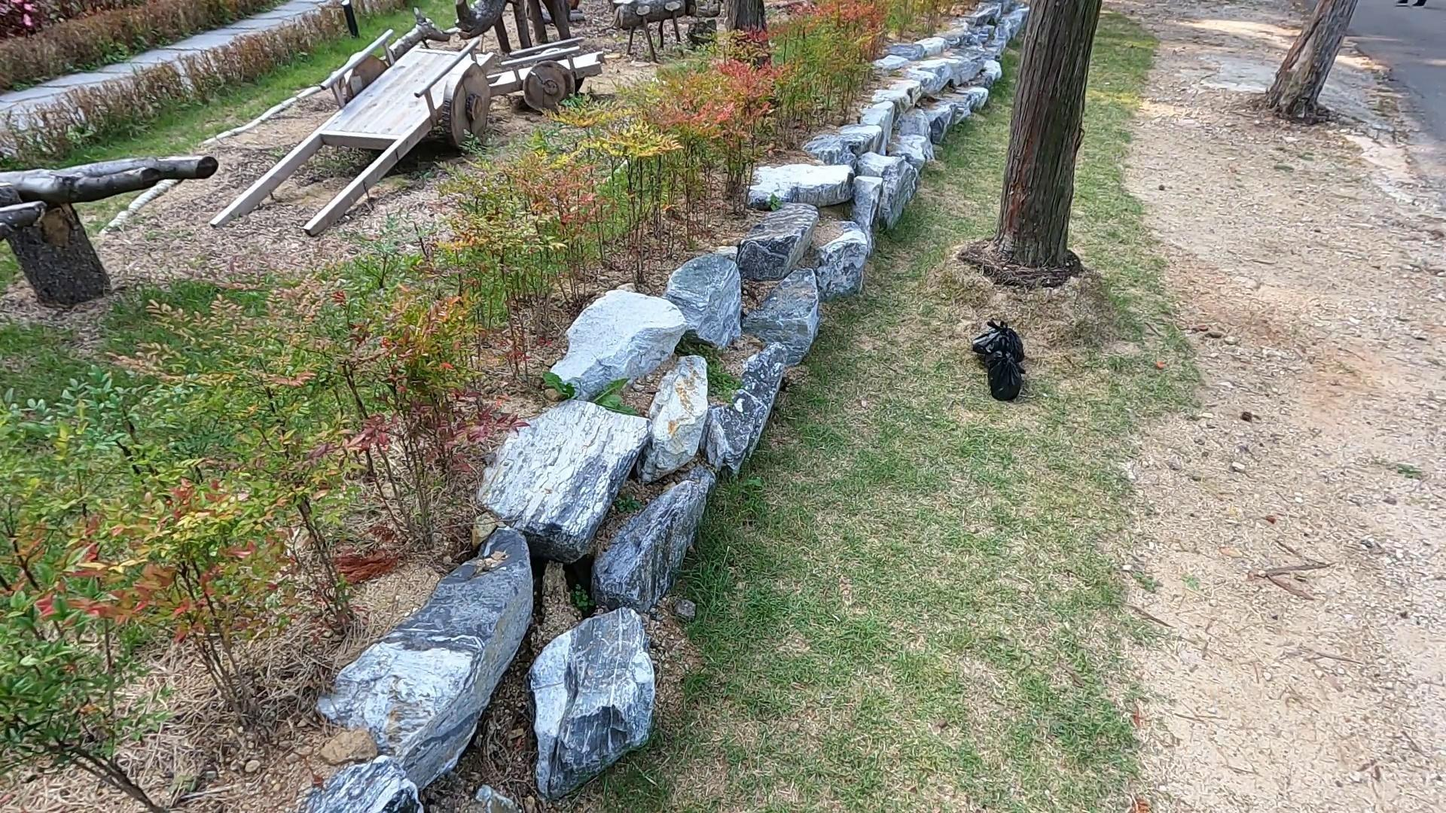trash: (983, 343, 1031, 405), (970, 316, 1026, 364)
